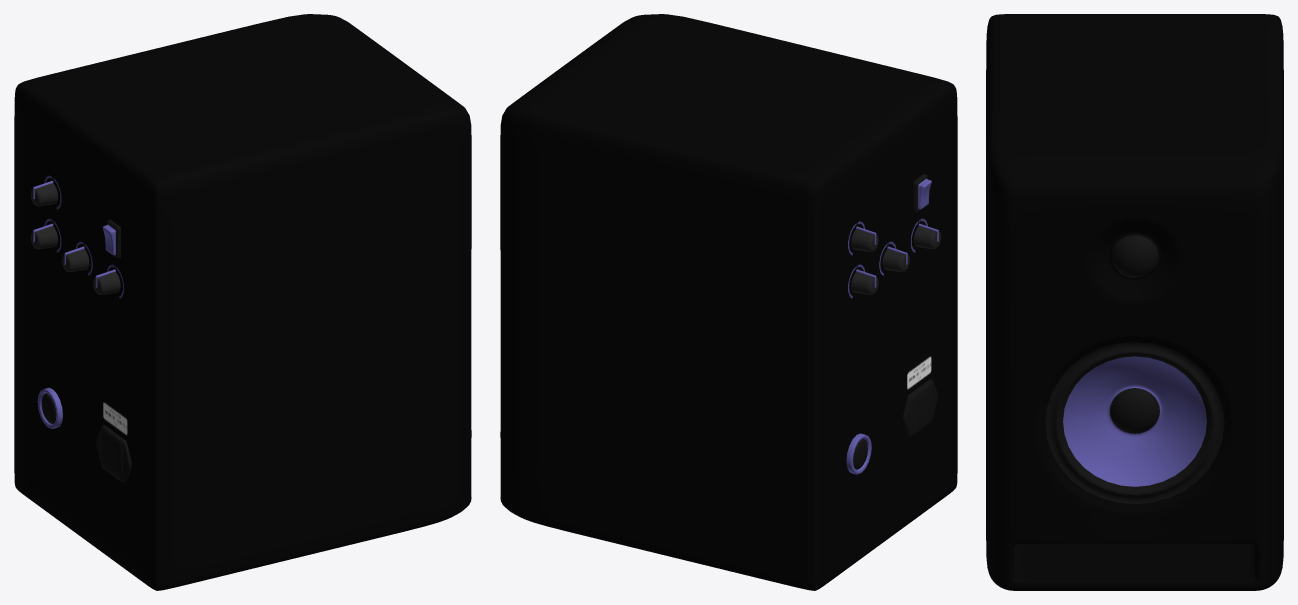
Rendered from studio_speaker.glb.
The picture shows the model from 3 angles, left to right: view 1: azimuth 30°, elevation 25°; view 2: azimuth 150°, elevation 25°; view 3: azimuth 270°, elevation 25°; orthographic projection. The views are drawn at different scales.
Parts seen in each view (by area): view 1: Speaker, Power, Input XLR; view 2: Speaker, Power, Input XLR; view 3: Speaker.
Boxes of the visible parts, bbox=[...] form: Speaker: bbox=[14, 14, 471, 590]; Power: bbox=[96, 425, 131, 482]; Input XLR: bbox=[37, 387, 62, 428]; Speaker: bbox=[500, 14, 957, 590]; Power: bbox=[902, 379, 937, 436]; Input XLR: bbox=[846, 433, 871, 474]; Speaker: bbox=[986, 14, 1283, 590].
Size of the model in its own units: 0.6426 by 0.722 by 0.4602.
Materials: 10 (1 with a texture image).
